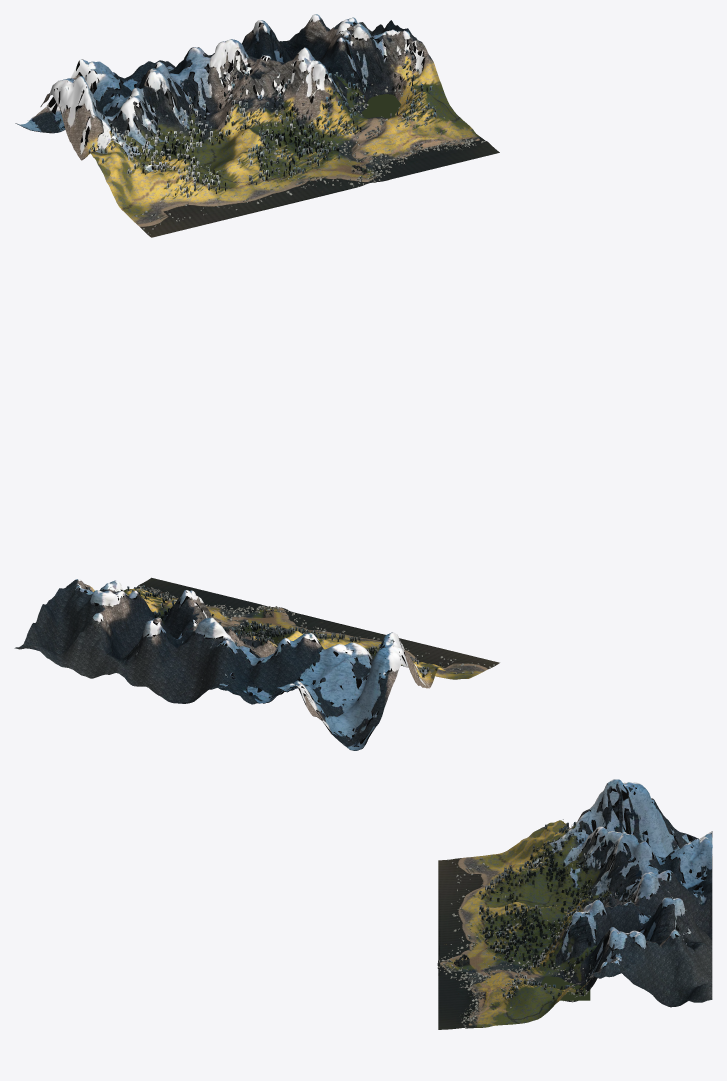
File: lake.glb
3 views of the same model, one above another, from view 1: azimuth 30°, elevation 25°; view 2: azimuth 150°, elevation 25°; view 3: azimuth 270°, elevation 25° (orthographic).
Parts seen in each view (by area): view 1: Landscape_002, Landscape_004, neige, Landscape, Landscape_005, pine_tree_big_20150403_2028379675_1566, Icosphere_1447, Plane_001; view 2: Landscape, neige, Landscape_005, Landscape_002, Landscape_004, pine_tree_big_20150403_2028379675_1566, Icosphere_1447; view 3: neige, Landscape_004, Landscape_002, Landscape, pine_tree_big_20150403_2028379675_1566, Landscape_005, Icosphere_1447, Plane_001.
Boxes of the visible parts, bbox=[...] form: Landscape_002: bbox=[256, 55, 499, 194]; Landscape_004: bbox=[81, 111, 325, 237]; neige: bbox=[15, 14, 426, 171]; Landscape: bbox=[225, 18, 429, 110]; Landscape_005: bbox=[16, 47, 255, 159]; pine_tree_big_20150403_2028379675_1566: bbox=[88, 49, 436, 201]; Icosphere_1447: bbox=[133, 84, 485, 234]; Plane_001: bbox=[361, 94, 400, 118]; Landscape: bbox=[14, 580, 254, 703]; neige: bbox=[71, 579, 431, 750]; Landscape_005: bbox=[190, 636, 429, 750]; Landscape_002: bbox=[84, 577, 324, 639]; Landscape_004: bbox=[259, 620, 499, 687]; pine_tree_big_20150403_2028379675_1566: bbox=[87, 585, 441, 677]; Icosphere_1447: bbox=[138, 585, 494, 674]; neige: bbox=[532, 779, 712, 987]; Landscape_004: bbox=[438, 820, 578, 945]; Landscape_002: bbox=[437, 915, 578, 1029]; Landscape: bbox=[578, 884, 712, 1007]; pine_tree_big_20150403_2028379675_1566: bbox=[475, 819, 649, 1001]; Landscape_005: bbox=[578, 783, 712, 929]; Icosphere_1447: bbox=[437, 858, 618, 1028]; Plane_001: bbox=[541, 976, 590, 1000].
Size of the model in its own units: 200 by 69.88 by 348.
15 materials, 11 textured.
